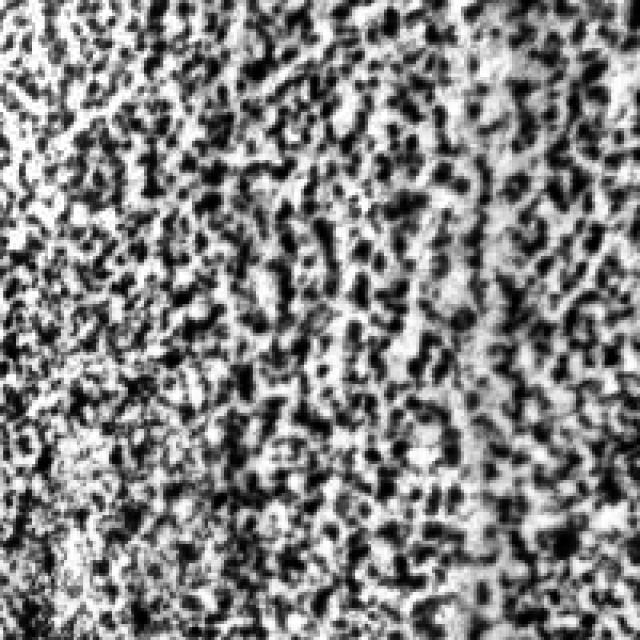Rolled_in_Scale: (0, 0, 624, 637)
